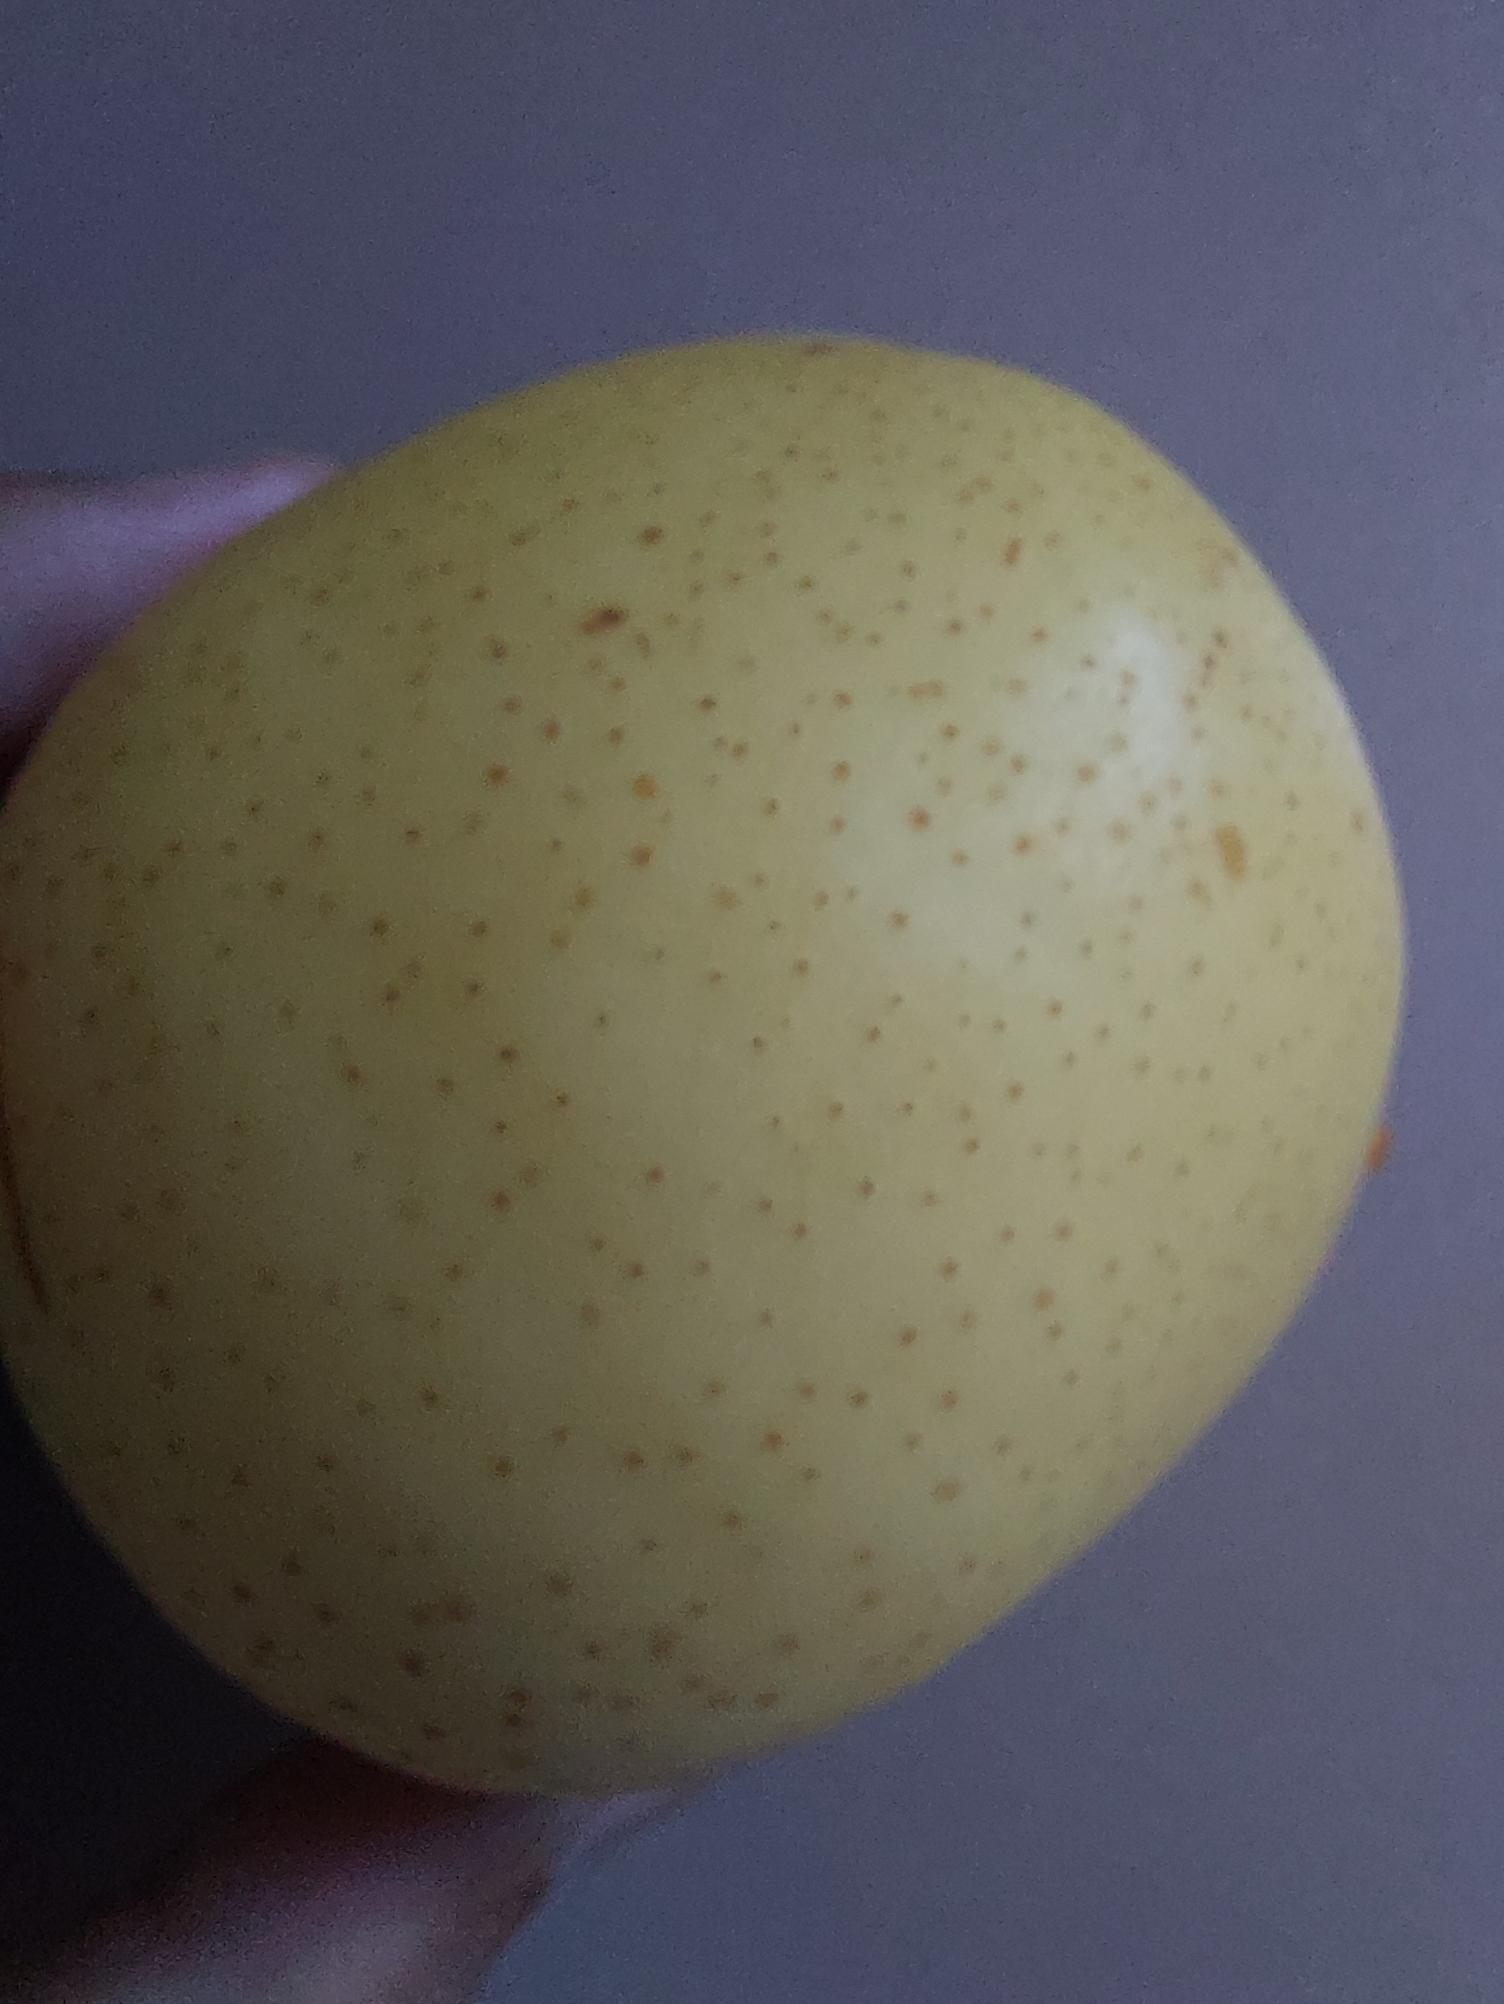Good Pear: (0, 327, 1414, 1808)
